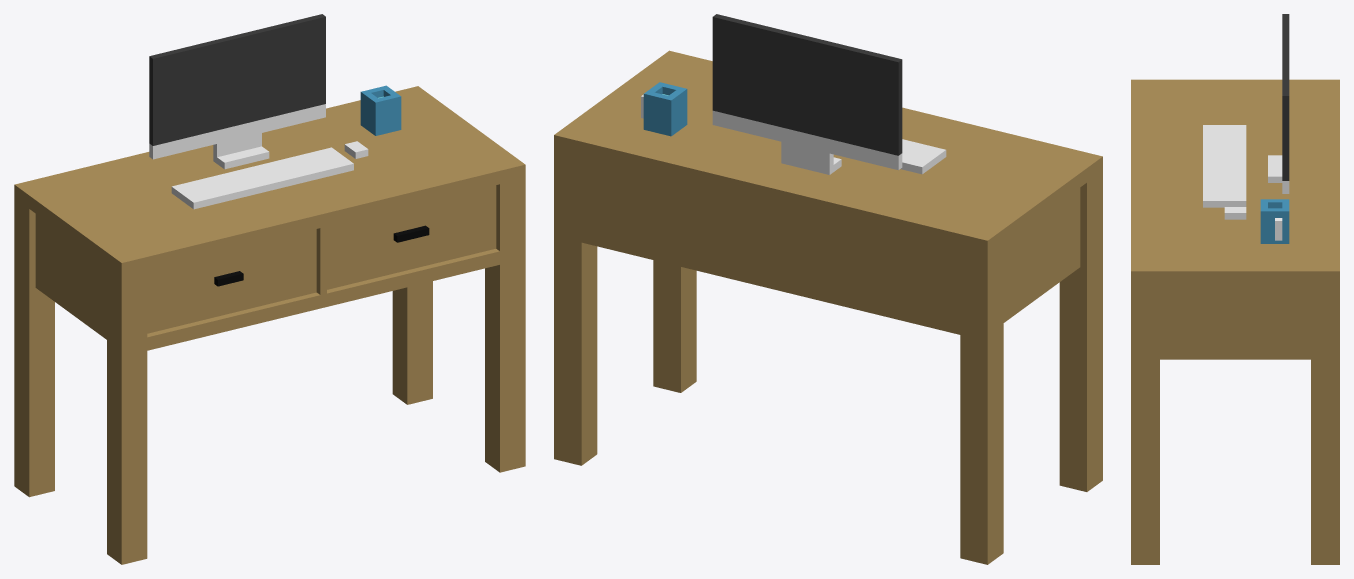
File: desk.obj
3 views of the same model, side by side, from view 1: azimuth 30°, elevation 25°; view 2: azimuth 150°, elevation 25°; view 3: azimuth 270°, elevation 25° (orthographic). The views are drawn at different scales.
Size of the model in its own units: 6.3 by 6.3 by 2.9.
1 material, 1 textured.
